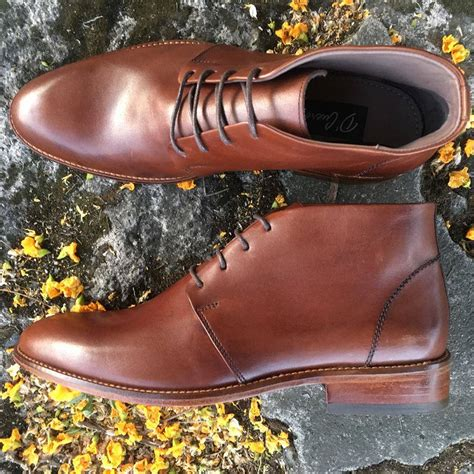cuero: (9, 39, 447, 409)
